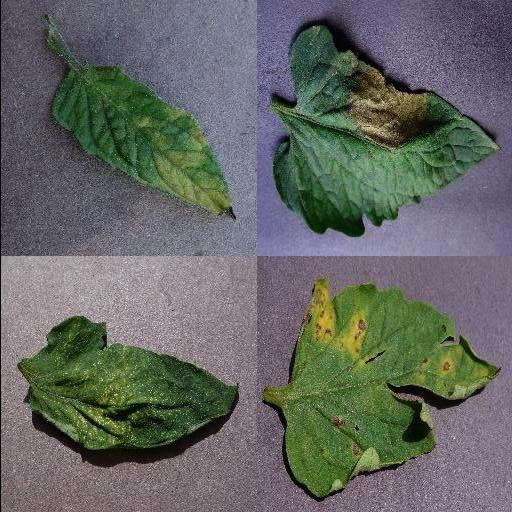Late Blight: (269, 21, 501, 239)
Leaf Mold: (49, 69, 235, 221)
Septoria: (280, 277, 502, 500)
Spider Mites: (17, 316, 239, 450)
